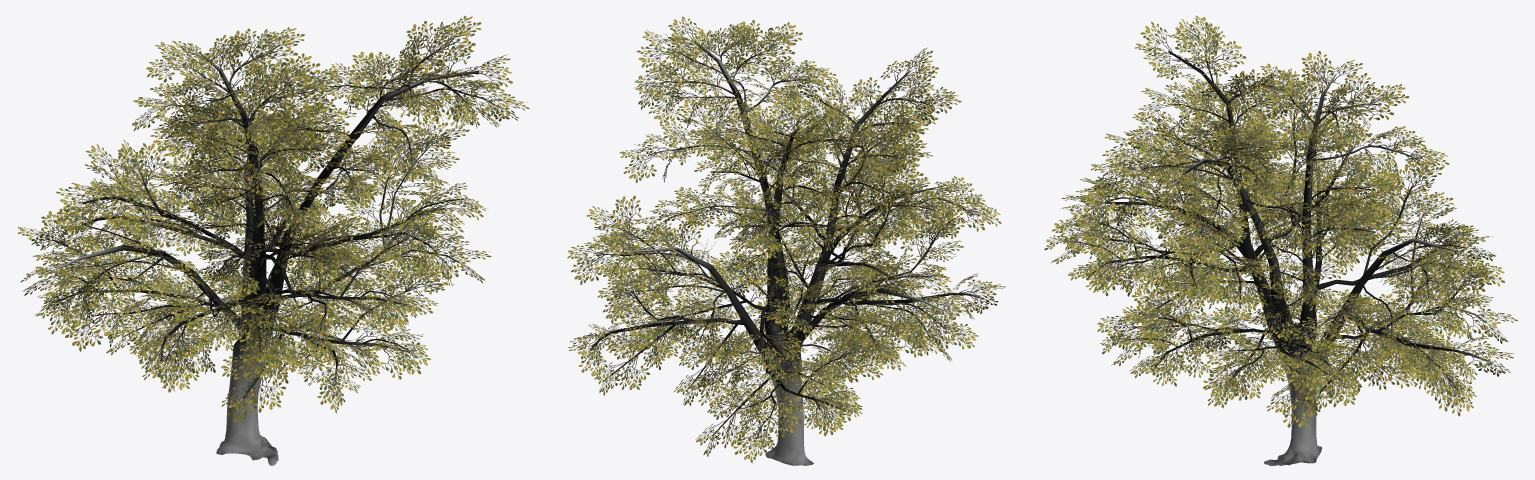
The model's file is PW_Tree_Oak_02.fbx.
3 views of the same model, side by side, from view 1: azimuth 30°, elevation 25°; view 2: azimuth 150°, elevation 25°; view 3: azimuth 270°, elevation 25° (orthographic). The views are drawn at different scales.
Visible parts, largest first — view 1: PW_Tree_Oak_02_LOD0; view 2: PW_Tree_Oak_02_LOD0; view 3: PW_Tree_Oak_02_LOD0.
Part boxes in pixels (box(x1,y1,x2,y2)): PW_Tree_Oak_02_LOD0: box(17, 16, 529, 465); PW_Tree_Oak_02_LOD0: box(567, 16, 1005, 465); PW_Tree_Oak_02_LOD0: box(1044, 15, 1517, 465).
Size of what is drawn, in the model's own units: 1383 by 1276 by 1386.
